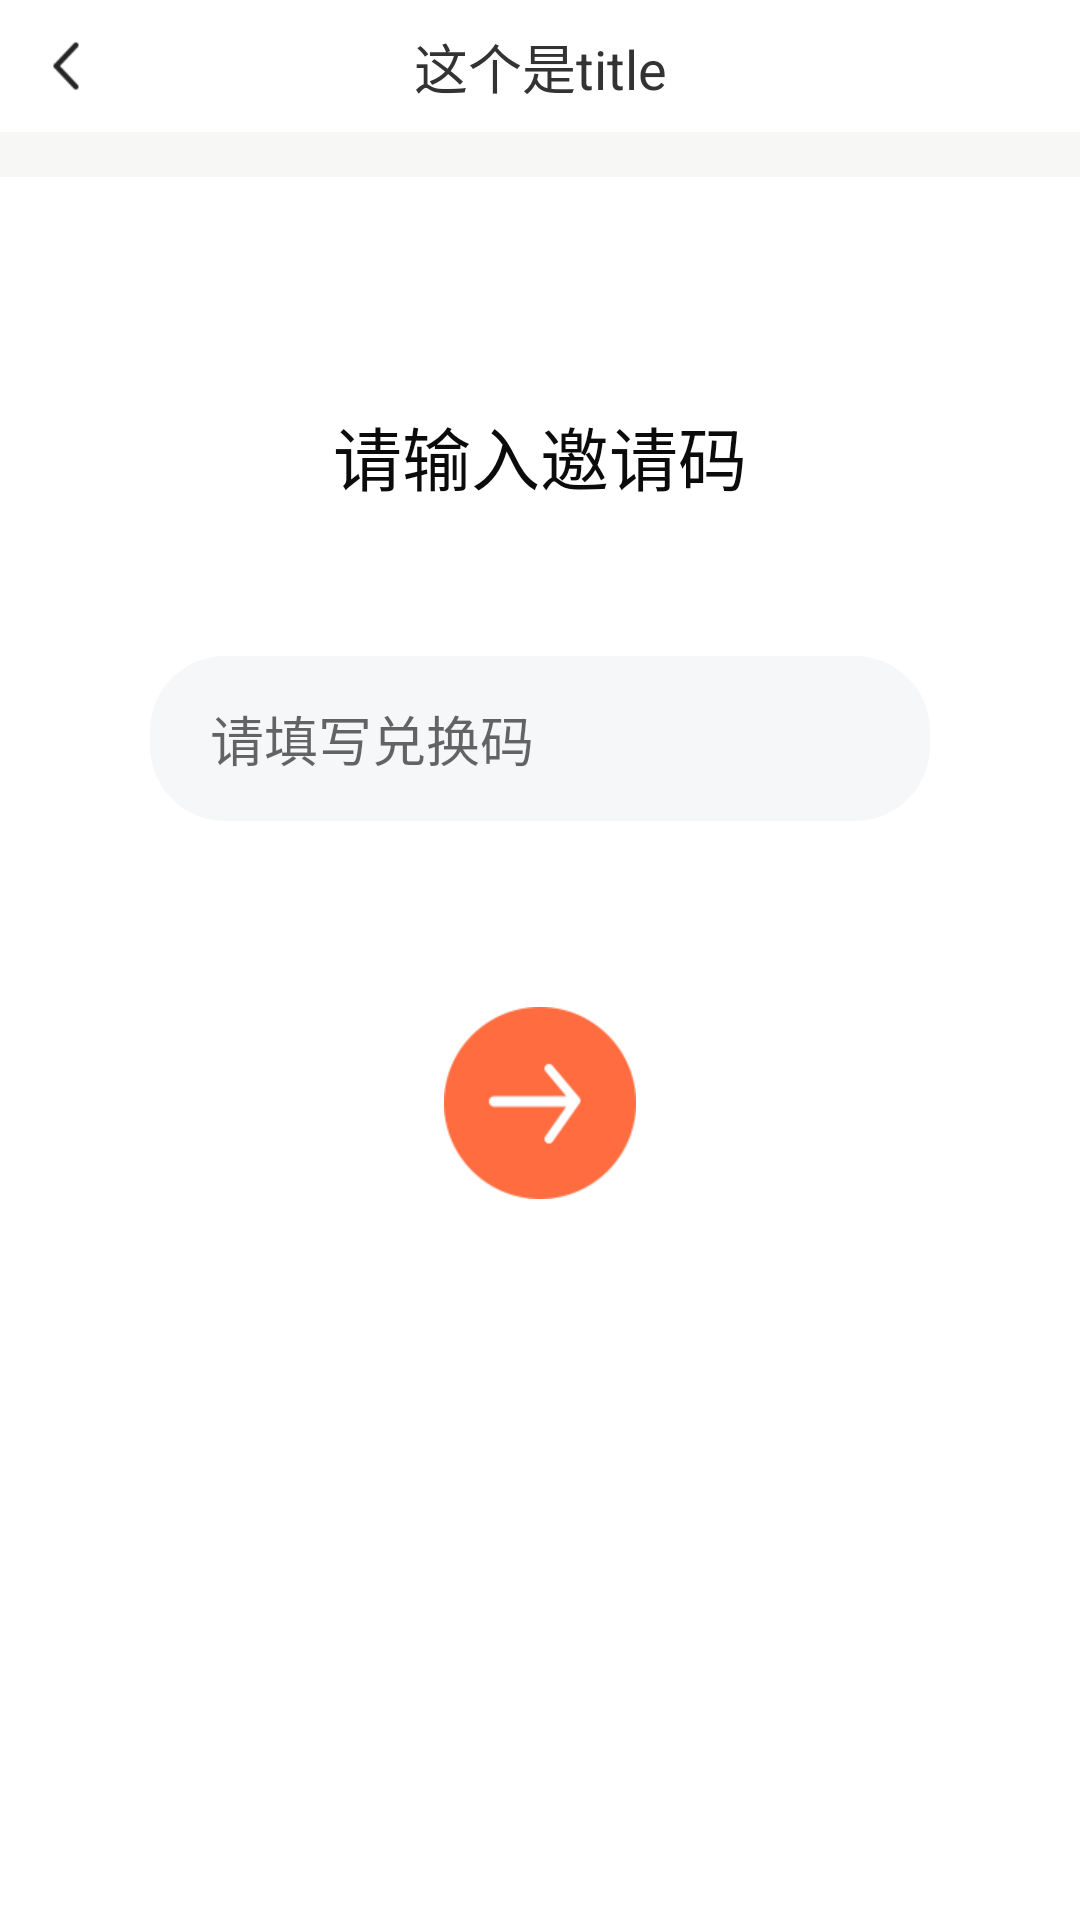

Screen size 1080w x 1920h. Icon name, then its box in pixels as (x1, y1, x2, y2):
back: (53, 42, 79, 90)
invite next: (444, 1007, 636, 1199)
